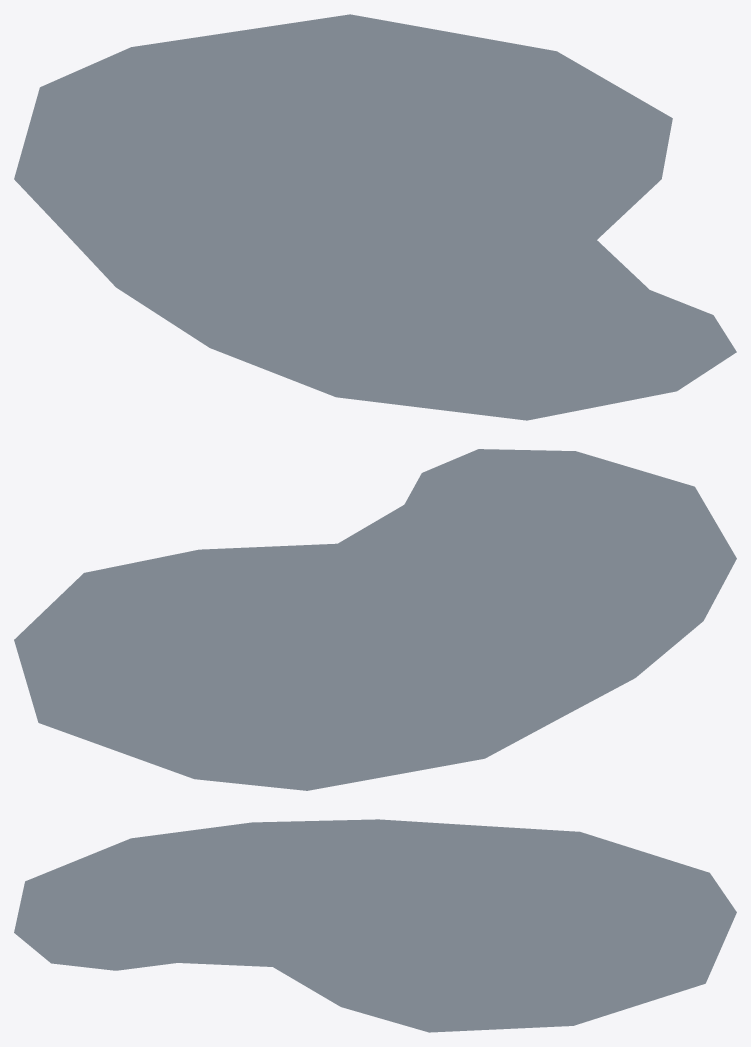
The model's file is gltf__Models__map__Forest__peterPan__peterPan_mergedAlpha00.glb.
3 renders of one model, top to bottom at view 1: azimuth 30°, elevation 25°; view 2: azimuth 150°, elevation 25°; view 3: azimuth 270°, elevation 25°, orthographic. The views are drawn at different scales.
Parts seen in each view (by area): view 1: peterPan_mergedAlpha_lv00; view 2: peterPan_mergedAlpha_lv00; view 3: peterPan_mergedAlpha_lv00.
Part boxes in pixels (x1=…): peterPan_mergedAlpha_lv00: x1=14, y1=14, x2=736, y2=420; peterPan_mergedAlpha_lv00: x1=14, y1=449, x2=736, y2=790; peterPan_mergedAlpha_lv00: x1=14, y1=819, x2=736, y2=1032.
Bounding box in the file's own units: 3.2 × 9.54e-07 × 4.58.
Materials: 1 (1 with a texture image).
